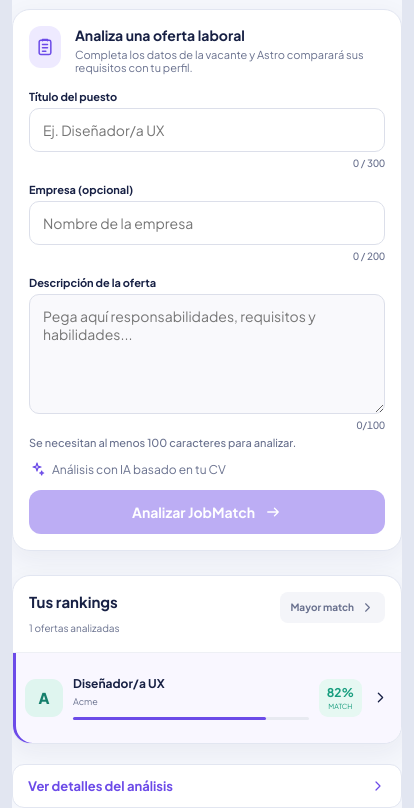
Test: JobMatchModule › keeps analysis details collapsed until requested on compact layouts
The width and height of the screenshot is (414, 808).
(page scrolled)
Click the button "Ver detalles del análisis" at (100, 786), box [12,764,402,807]
(page scrolled)
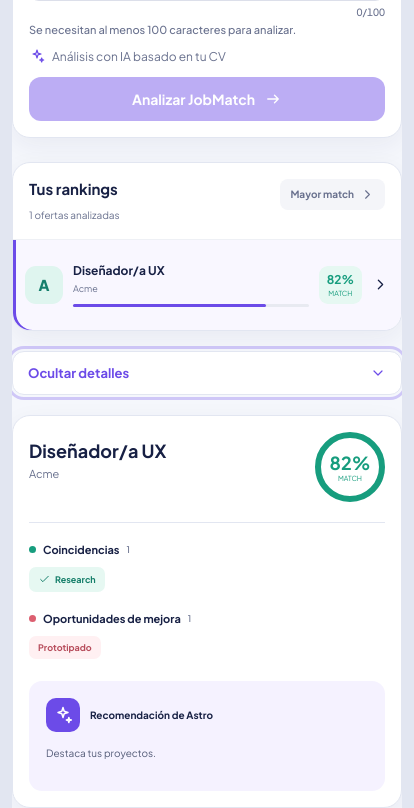
Now the button "Ocultar detalles" is expanded, box [12,351,402,395]
Now the text "Recomendación de Astro" is shown, box [90,709,213,721]
